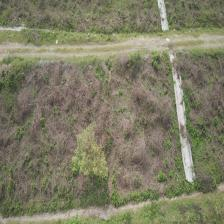slope drain: (168, 50, 195, 184)
vegetation: (72, 120, 108, 178)
